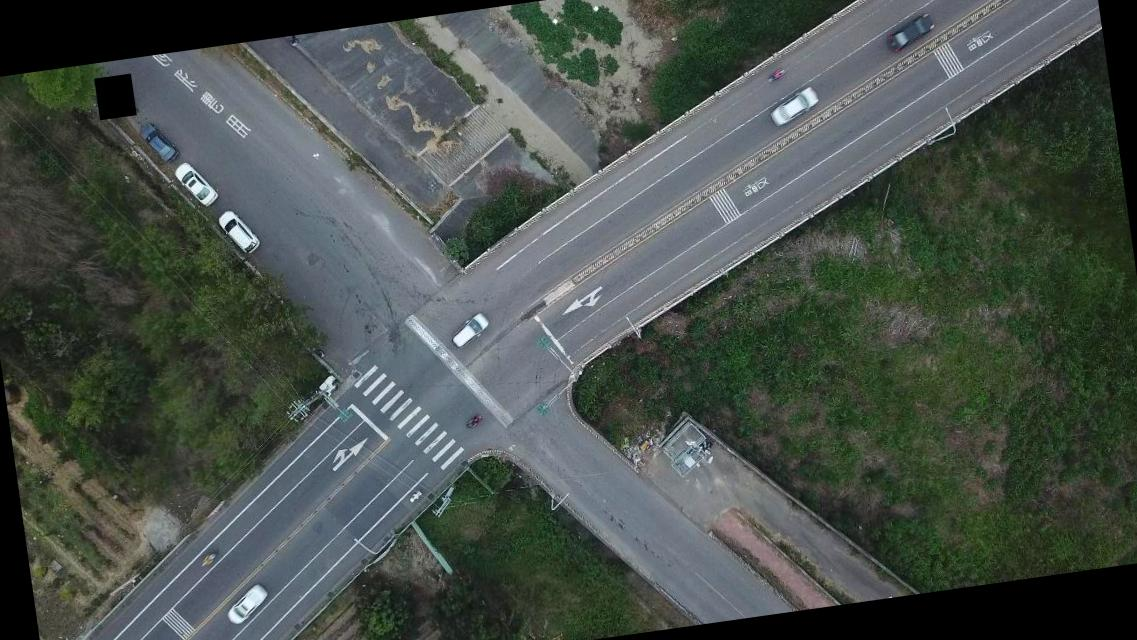vehicle: (172, 157, 219, 211), (216, 206, 262, 260), (882, 12, 938, 55), (766, 85, 822, 126), (137, 119, 178, 168), (224, 584, 270, 626), (446, 312, 490, 350)
